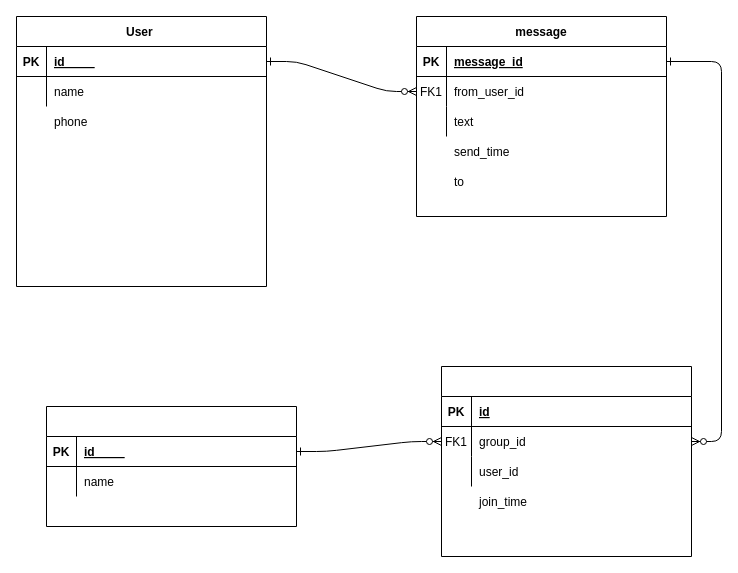
The diagram is 738 pixels wide and 573 high, and some of its shapes have lost their labels. The box of each missing label's shape, as (x1, y1, x2, y2) in pixels:
Group: (46, 406, 296, 526)
Group_member: (440, 366, 692, 556)
